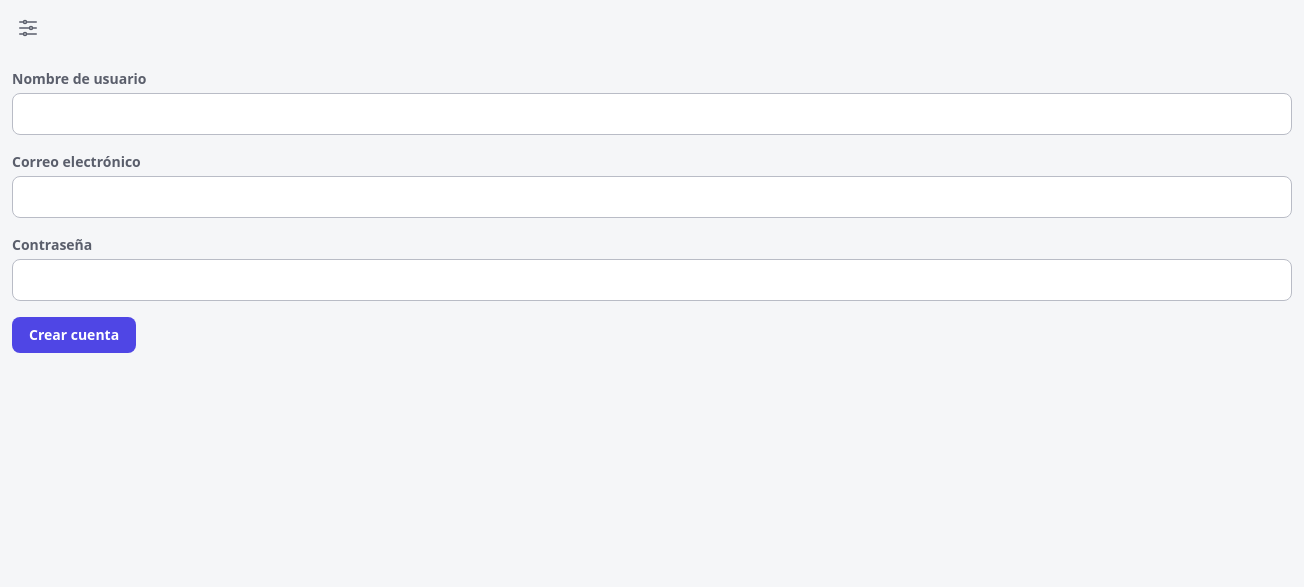
Test: RegistroForm › muestra un aviso genérico ante un 409 y no marca ningún campo
Type "mateo29" into the field labelled "Nombre de usuario" at point(652, 114), box [12,93,1292,135]
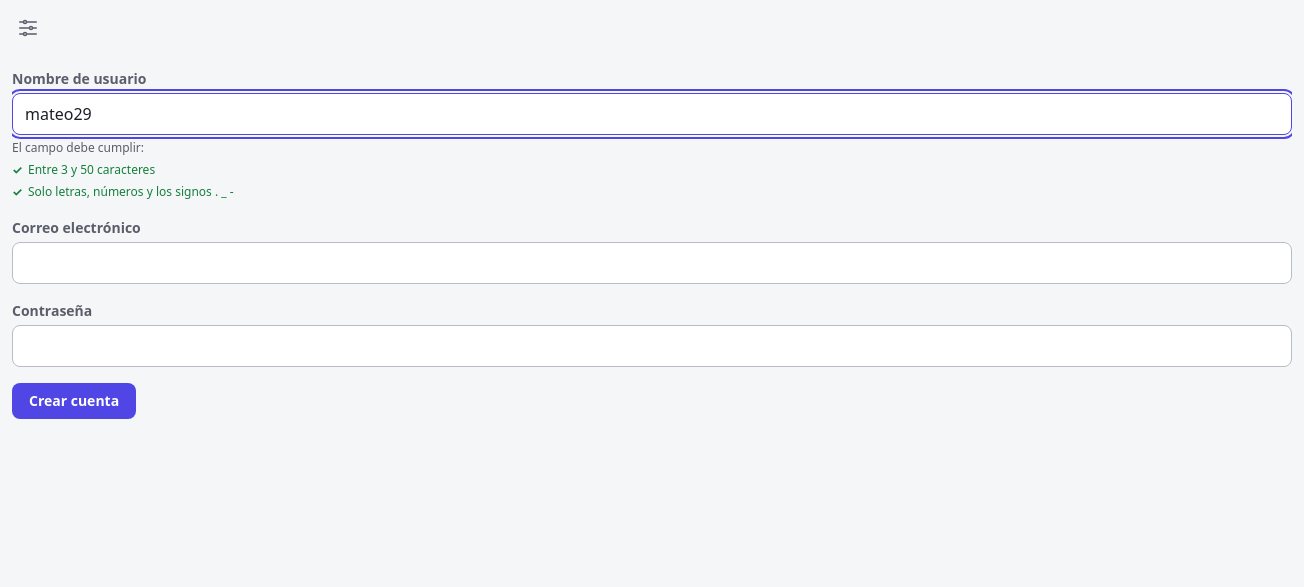
Type "Mateo@Example.com" into the field labelled "Correo electrónico" at point(652, 263), box [12,242,1292,284]
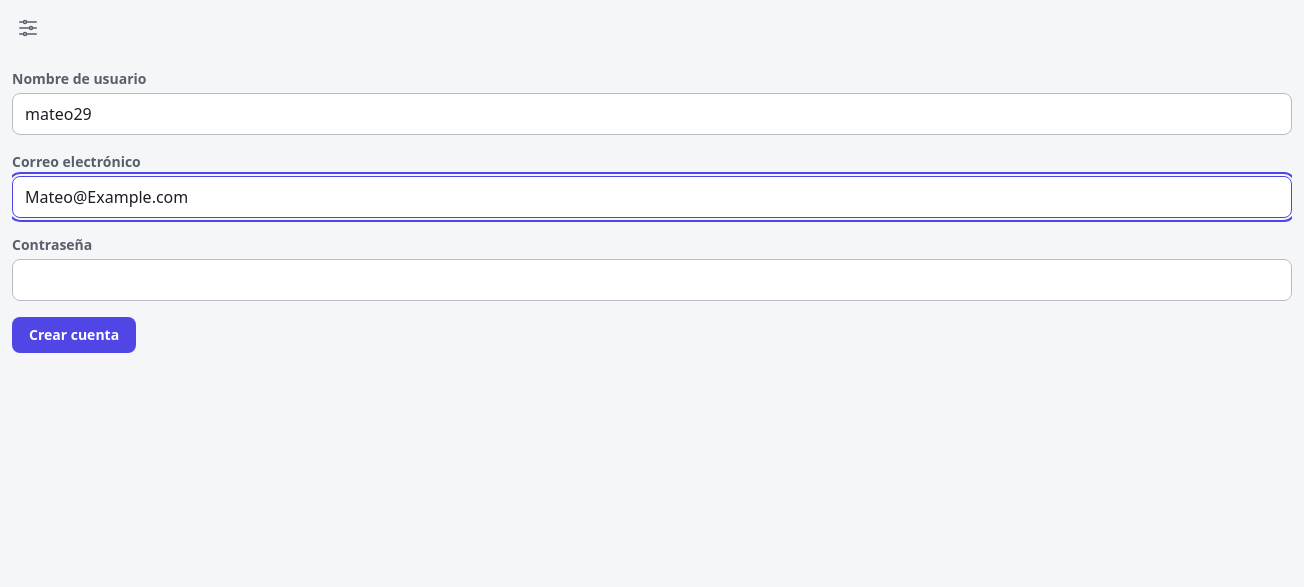
Type "Passw0rd!" into the password field labelled "Contraseña" at point(652, 280), box [12,259,1292,301]
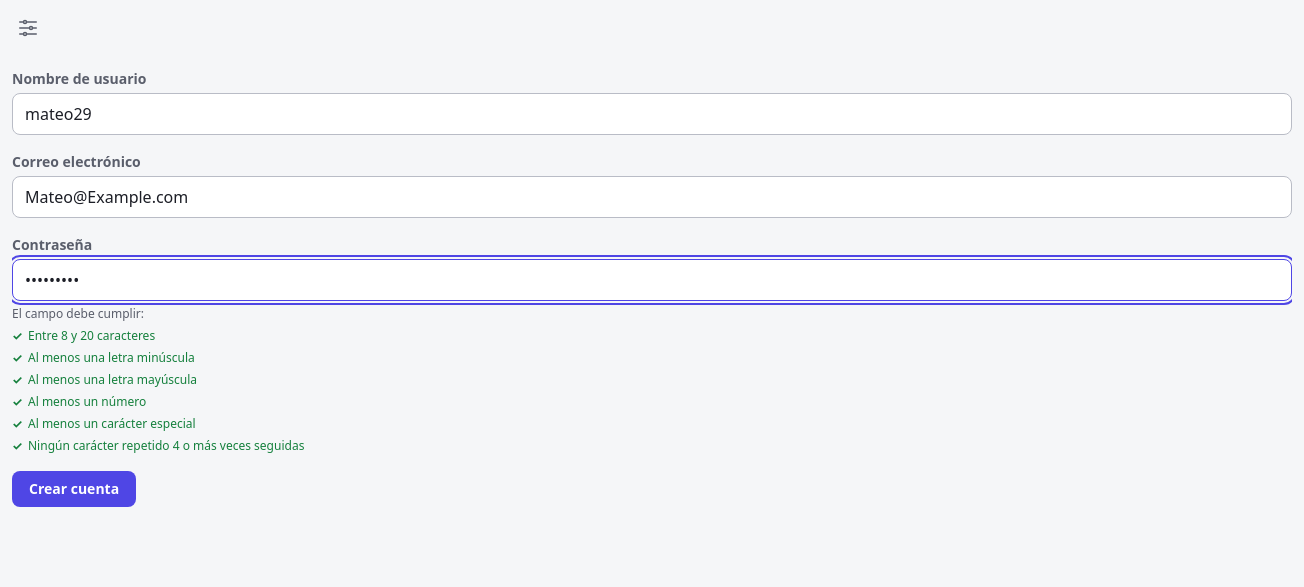
Click the button "Crear cuenta" at point(74, 489), box [12,471,136,506]
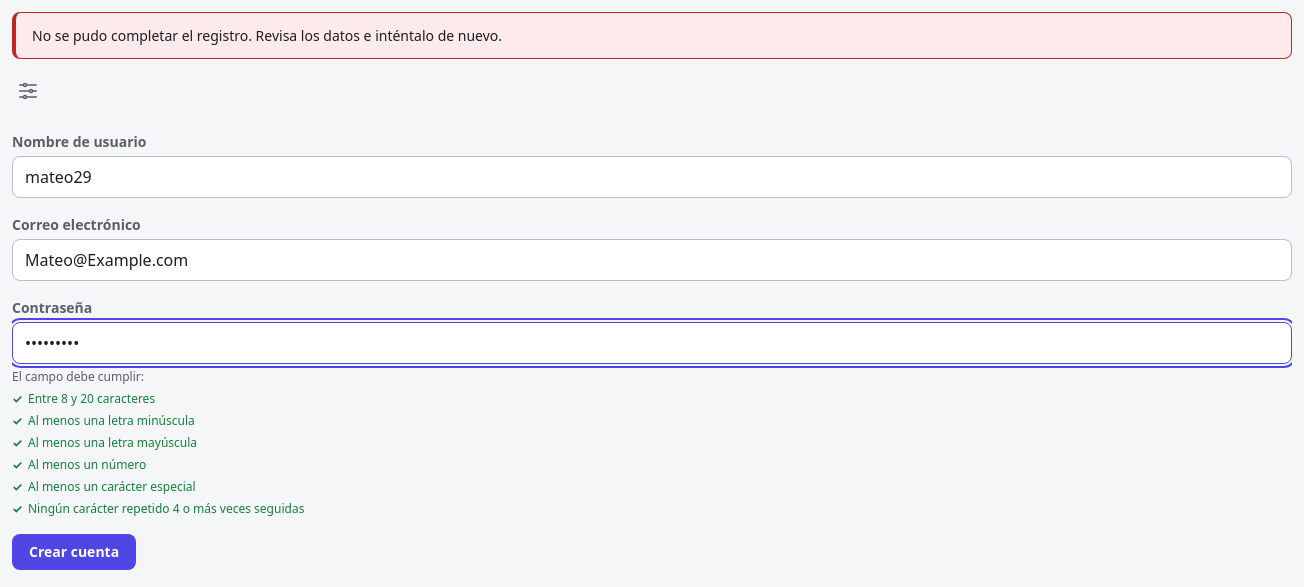
Expected: the text "No se pudo completar el registro. Revisa los datos e inténtalo de nuevo." is shown, [12,12,1292,59]
